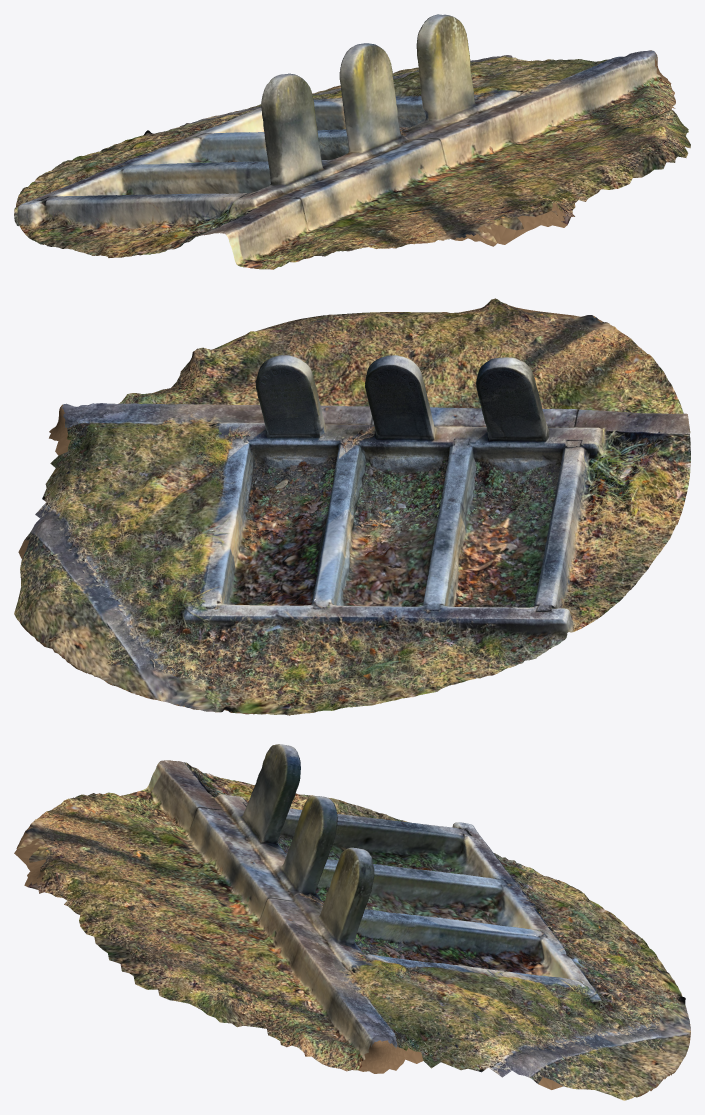
Rendered from cradle_graves_vcu_3d_5720.glb.
3 views of the same model, one above another, from view 1: azimuth 30°, elevation 25°; view 2: azimuth 150°, elevation 25°; view 3: azimuth 270°, elevation 25° (orthographic). The views are drawn at different scales.
Parts seen in each view (by area): view 1: Object_2, Object_3; view 2: Object_2, Object_3; view 3: Object_2, Object_3.
Boxes of the visible parts, x1=… form: Object_2: x1=14, y1=14, x2=688, y2=260; Object_3: x1=14, y1=14, x2=690, y2=269; Object_2: x1=14, y1=306, x2=690, y2=715; Object_3: x1=35, y1=298, x2=690, y2=715; Object_2: x1=14, y1=758, x2=690, y2=1100; Object_3: x1=17, y1=744, x2=690, y2=1079.
Size of the model in its own units: 5.73 by 2.13 by 5.89.
Materials: 2 (2 with a texture image).
